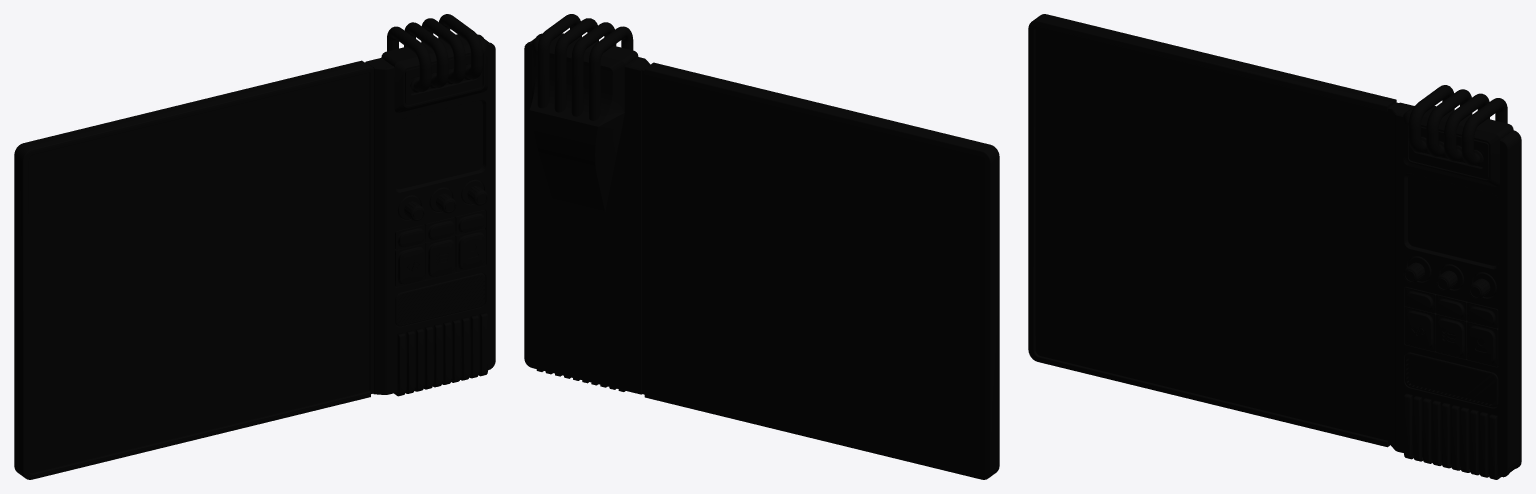
Rendered from site-mixer-withmats.glb.
3 views of the same model, side by side, from view 1: azimuth 30°, elevation 25°; view 2: azimuth 150°, elevation 25°; view 3: azimuth 330°, elevation 25° (orthographic). The views are drawn at different scales.
Parts seen in each view (by area): view 1: Baked; view 2: Baked; view 3: Baked.
Boxes of the visible parts, x1=… form: Baked: x1=14, y1=14, x2=495, y2=479; Baked: x1=524, y1=14, x2=999, y2=479; Baked: x1=1028, y1=14, x2=1521, y2=479.
Size of the model in its own units: 2 by 1.43 by 0.3017.
2 materials, 1 textured.
